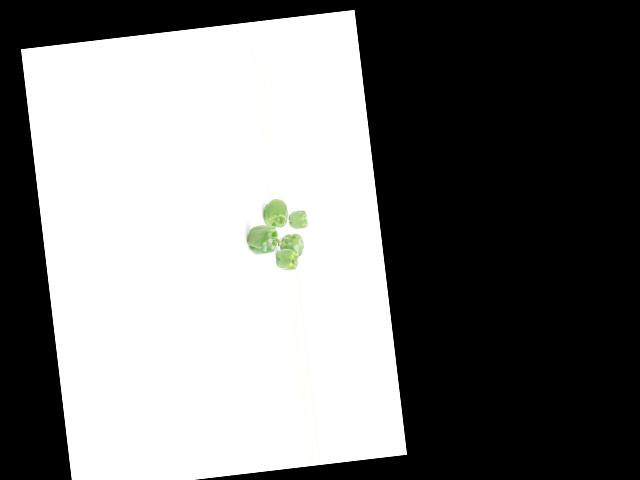bell_pepper: (271, 245, 298, 272)
